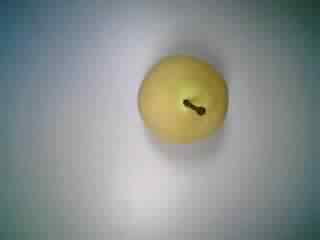pear: (124, 48, 240, 151)
